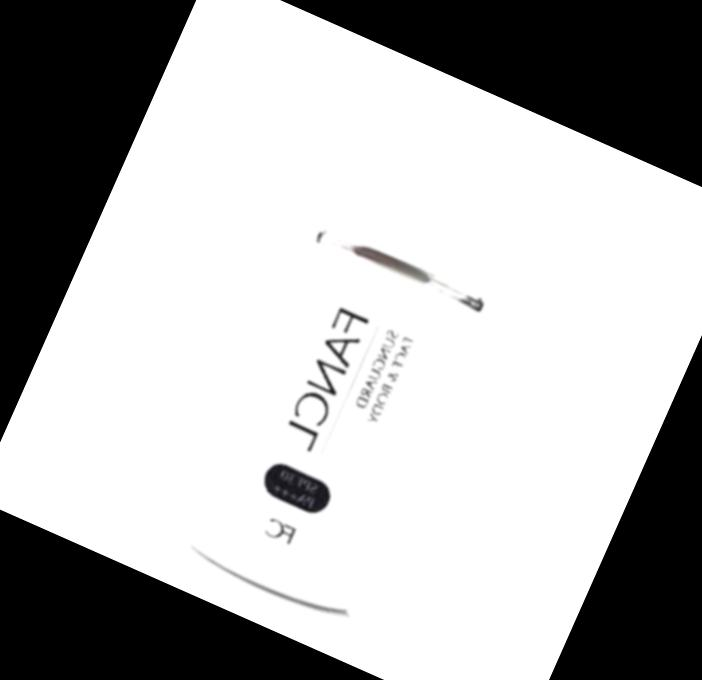cosmetic: (166, 119, 540, 627)
